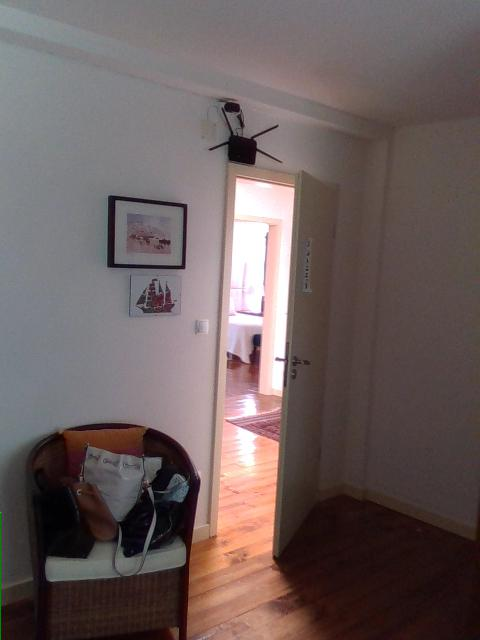semi_door: (205, 160, 339, 559)
